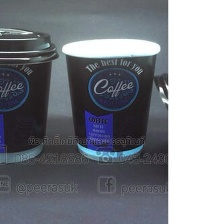paper_cup: (57, 34, 163, 165), (0, 22, 62, 167)
